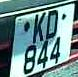4: (37, 41, 49, 71), (50, 36, 61, 65)
8: (23, 43, 37, 77)
D: (45, 8, 58, 42)
K: (34, 12, 44, 47)
